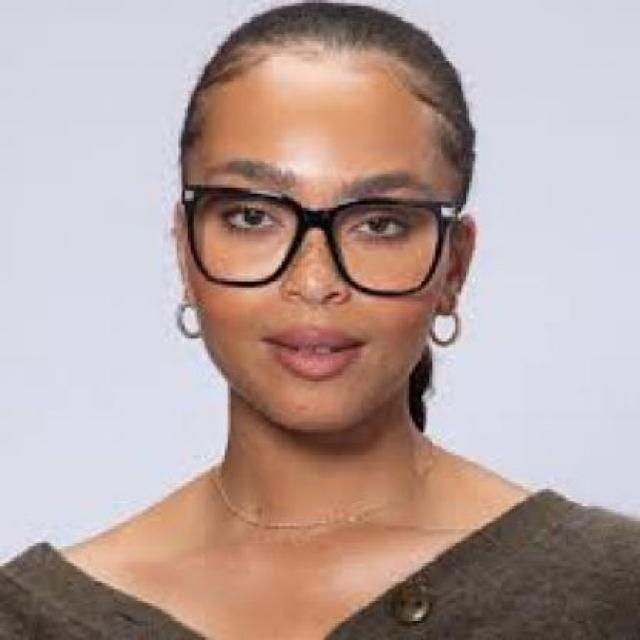glasses: (164, 184, 458, 296)
